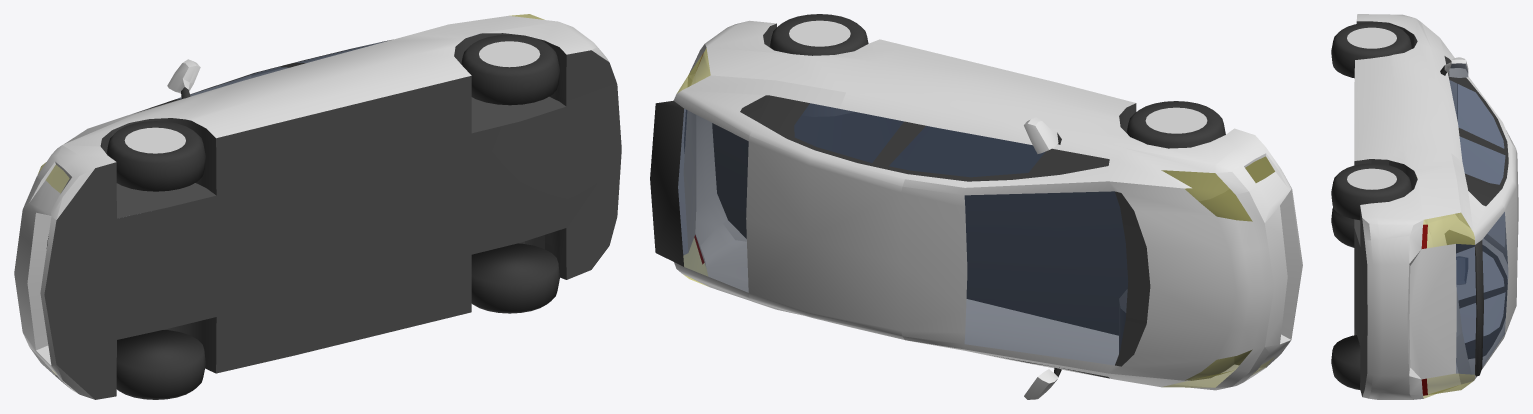
The model's file is prius_model.dae.
3 renders of one model, left to right at view 1: azimuth 30°, elevation 25°; view 2: azimuth 150°, elevation 25°; view 3: azimuth 270°, elevation 25°, orthographic. The views are drawn at different scales.
Visible parts, largest first — view 1: Layer_0 (×5); view 2: Layer_0 (×6); view 3: Layer_0 (×7).
Part boxes in pixels (left/top/right/bottom): Layer_0 (×5): left=14, top=15, right=621, bottom=399; Layer_0 (×6): left=650, top=14, right=1302, bottom=399; Layer_0 (×7): left=1331, top=14, right=1518, bottom=399.
Size of the model in its own units: 4.35 by 1.47 by 1.96.
